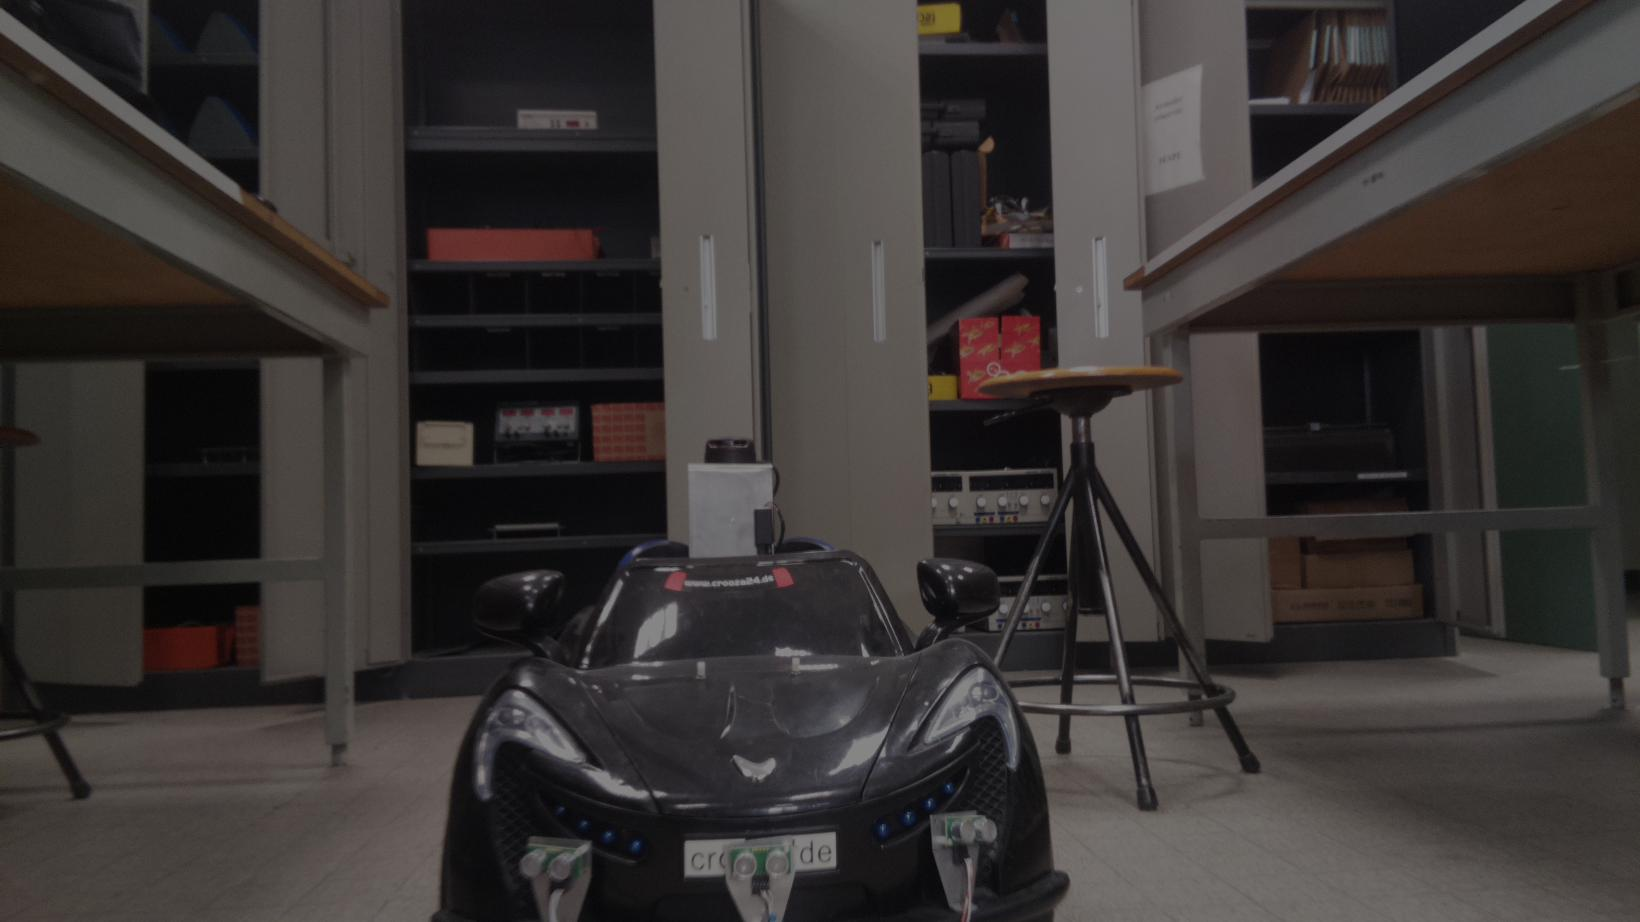big: (437, 430, 1079, 922)
